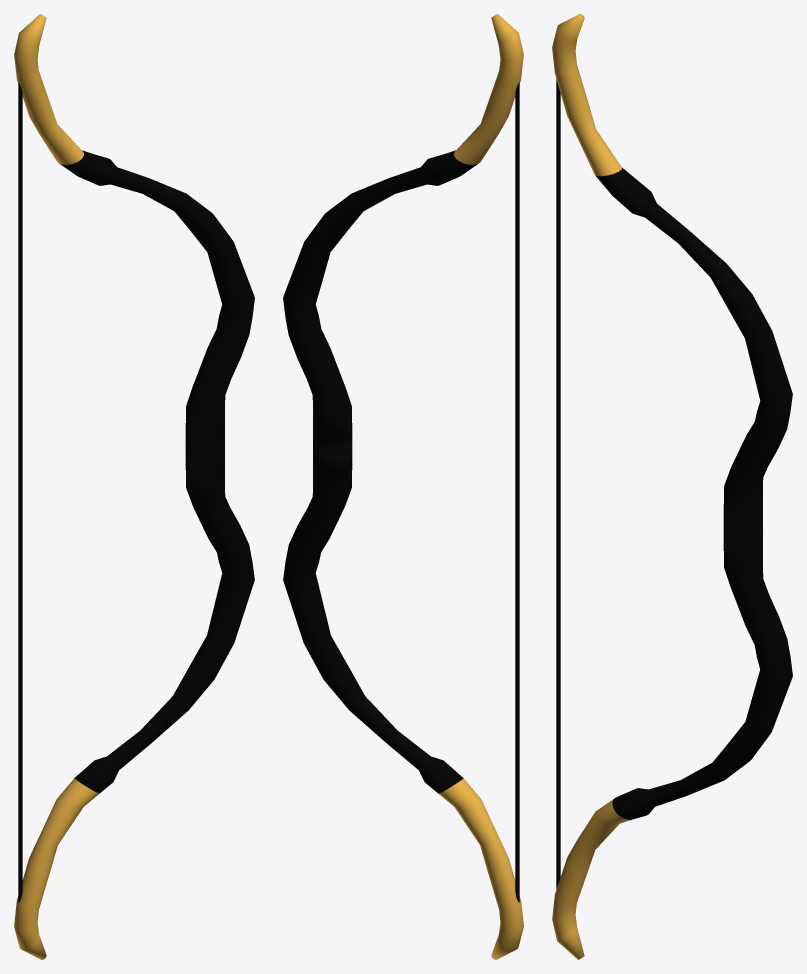
File: MC Bow Colored.fbx
3 renders of one model, left to right at view 1: azimuth 30°, elevation 25°; view 2: azimuth 150°, elevation 25°; view 3: azimuth 330°, elevation 25°, orthographic.
Visible parts, largest first — view 1: String; view 2: String; view 3: String.
Boxes of the visible parts, x1,y1,x2,y2 form: String: (14,14,254,959); String: (283,14,523,959); String: (552,14,792,959).
Bounding box in the file's own units: 129 × 491 × 18.6.
